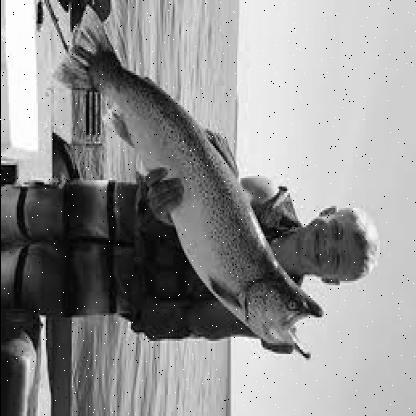fish: (62, 7, 326, 362)
